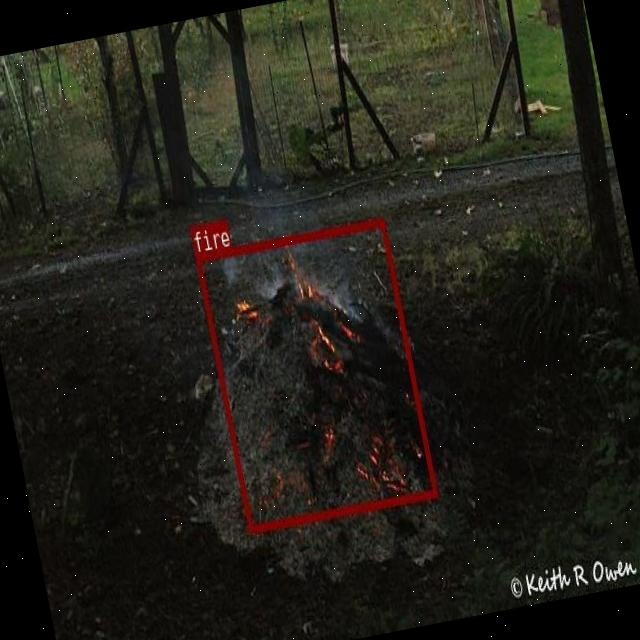fire: (195, 218, 436, 532)
